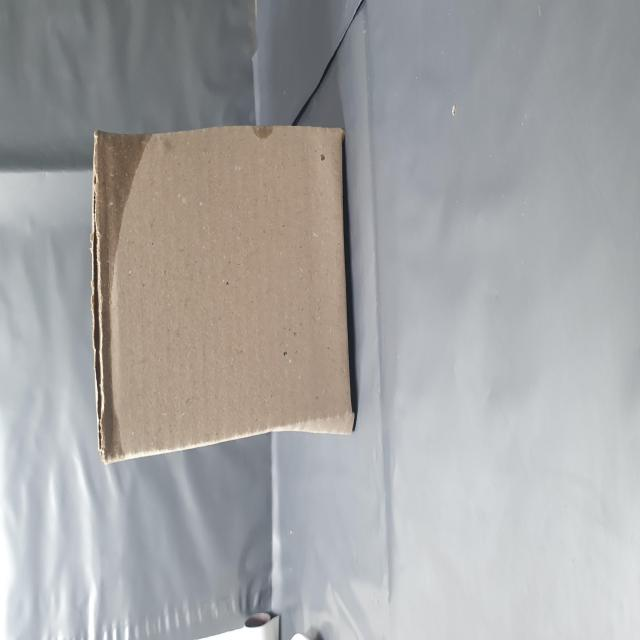wet: (99, 169, 285, 267)
